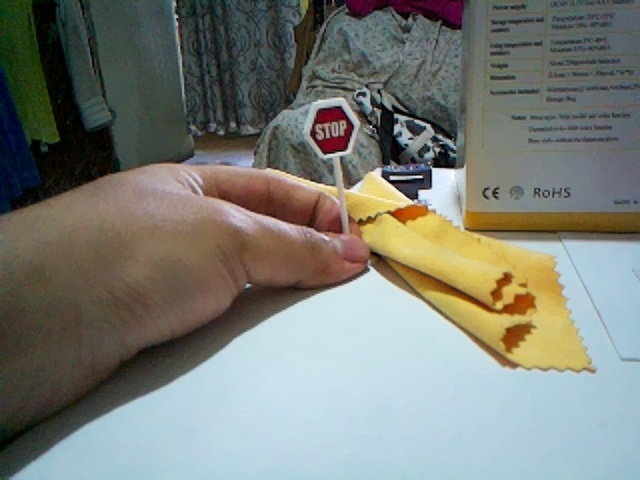stop_sign: (304, 97, 359, 158)
